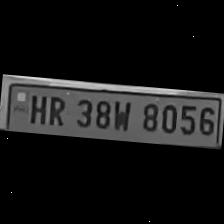0: (157, 100, 179, 134)
3: (70, 95, 96, 131)
5: (176, 101, 197, 135)
6: (196, 103, 217, 138)
8: (136, 98, 162, 134), (92, 96, 114, 130)
H: (25, 92, 47, 128)
R: (44, 92, 68, 128)
W: (109, 96, 135, 134)
